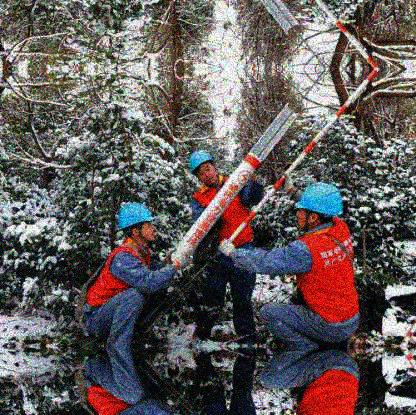helmet: (294, 183, 345, 229), (116, 202, 158, 242), (189, 149, 219, 184)
